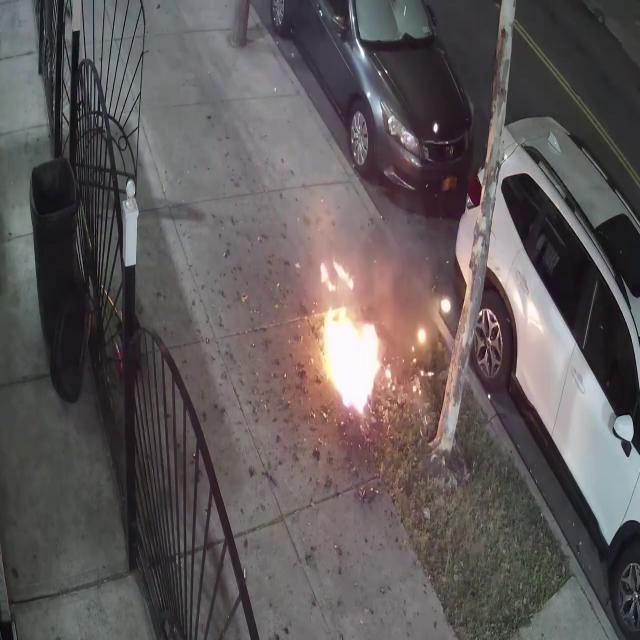Fire: (310, 258, 392, 412)
